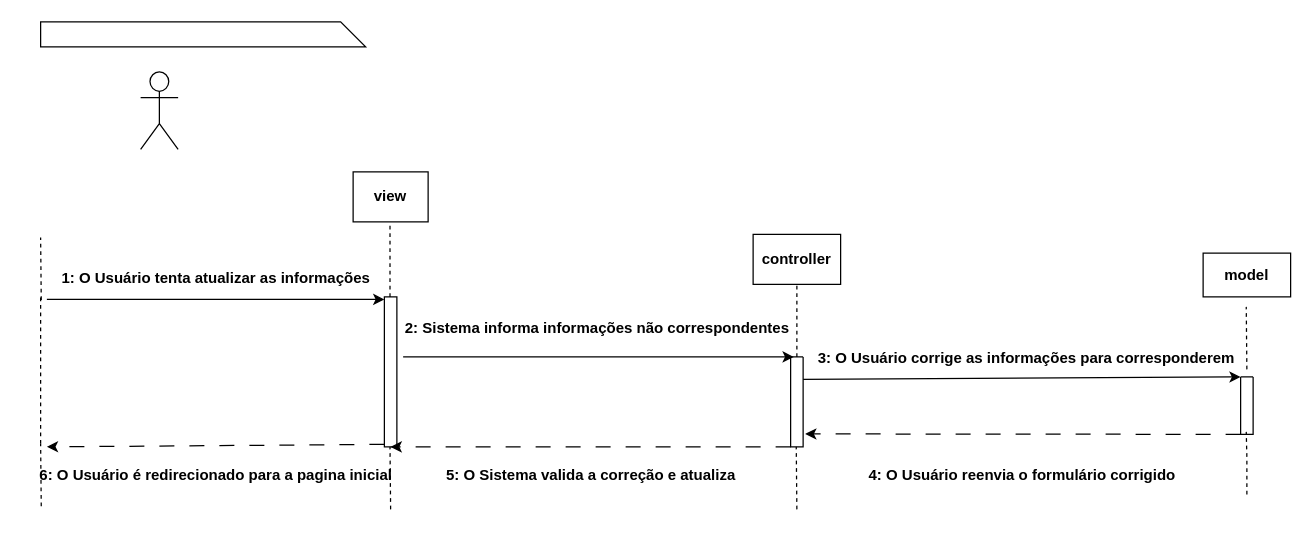
The diagram is 1313 pixels wide and 533 high, and some of its shapes have lost their labels. The shapes that lost their labels are listed below. From the top down, each one's centre as x and y in pixels, then its label:
At point (202, 34): "sd CDU 09 - Gerenciamento de Perfil".
At point (158, 110): "Lifeline 1: Administrador".
